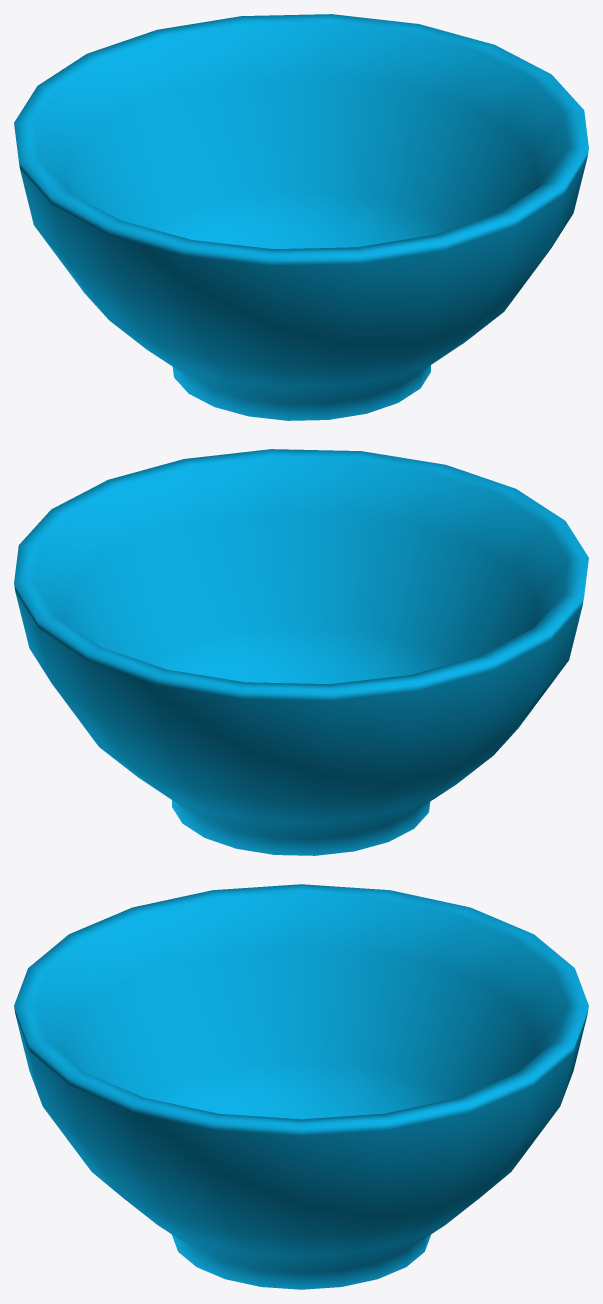
File: Bowl_Lod0.fbx
3 renders of one model, top to bottom at view 1: azimuth 30°, elevation 25°; view 2: azimuth 150°, elevation 25°; view 3: azimuth 270°, elevation 25°, orthographic.
Parts seen in each view (by area): view 1: Bowl_Lod0; view 2: Bowl_Lod0; view 3: Bowl_Lod0.
Boxes of the visible parts, x1=… form: Bowl_Lod0: x1=14, y1=14, x2=588, y2=420; Bowl_Lod0: x1=14, y1=449, x2=588, y2=855; Bowl_Lod0: x1=14, y1=884, x2=588, y2=1289.
Size of the model in its own units: 18.4 by 8.16 by 18.4.
